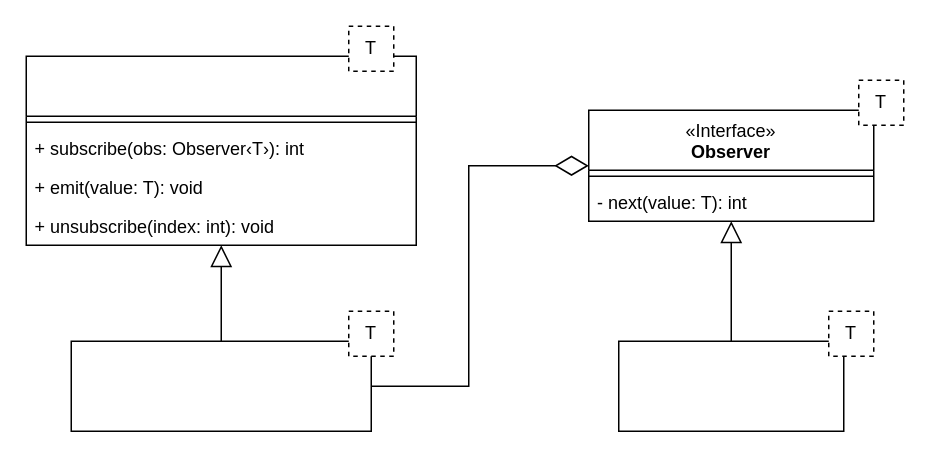
This 930x458 diagram has some shape labels left out. The shapes that lost their labels are listed below. From the top down, each one's box as (x1, y1, x2, y2) in pixels, then its label:
(25, 55, 416, 245): «Interface» Subject
(70, 340, 371, 431): ConcreteSubject + observers: Observer‹T›[]
(617, 340, 844, 431): ConcreteObserver + status: T
